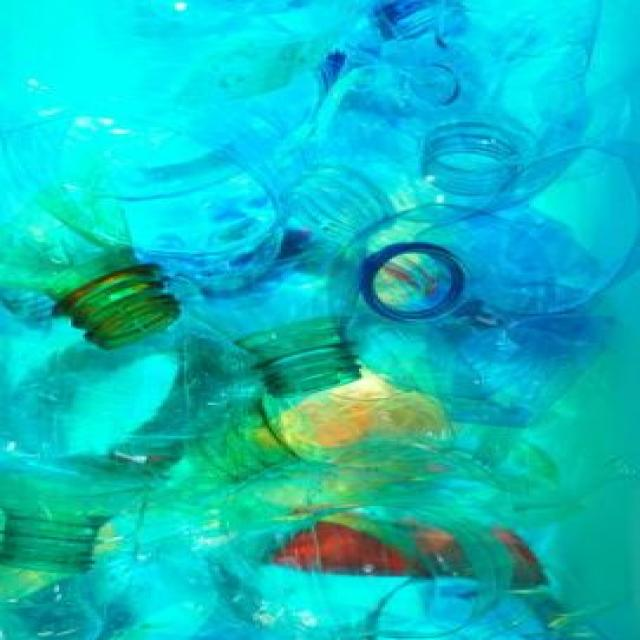general: (0, 178, 182, 352), (0, 441, 165, 575)
